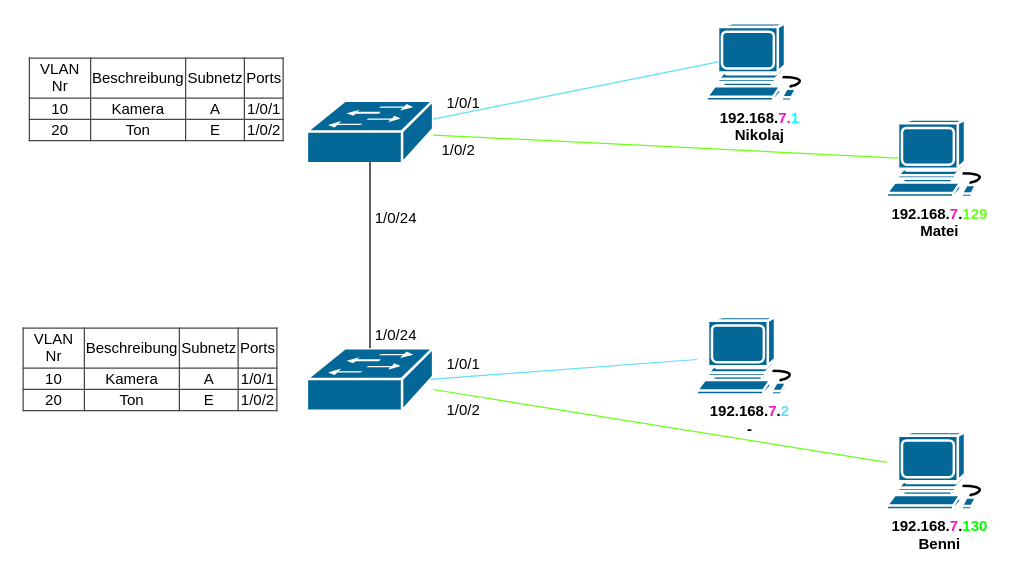
The diagram is 1013 pixels wide and 575 high, and some of its shapes have lost their labels. Each missing label, with the centre of its shape:
"EV EG Gimli" goes at point (369, 378).
"EV OG Sam" goes at point (369, 131).
